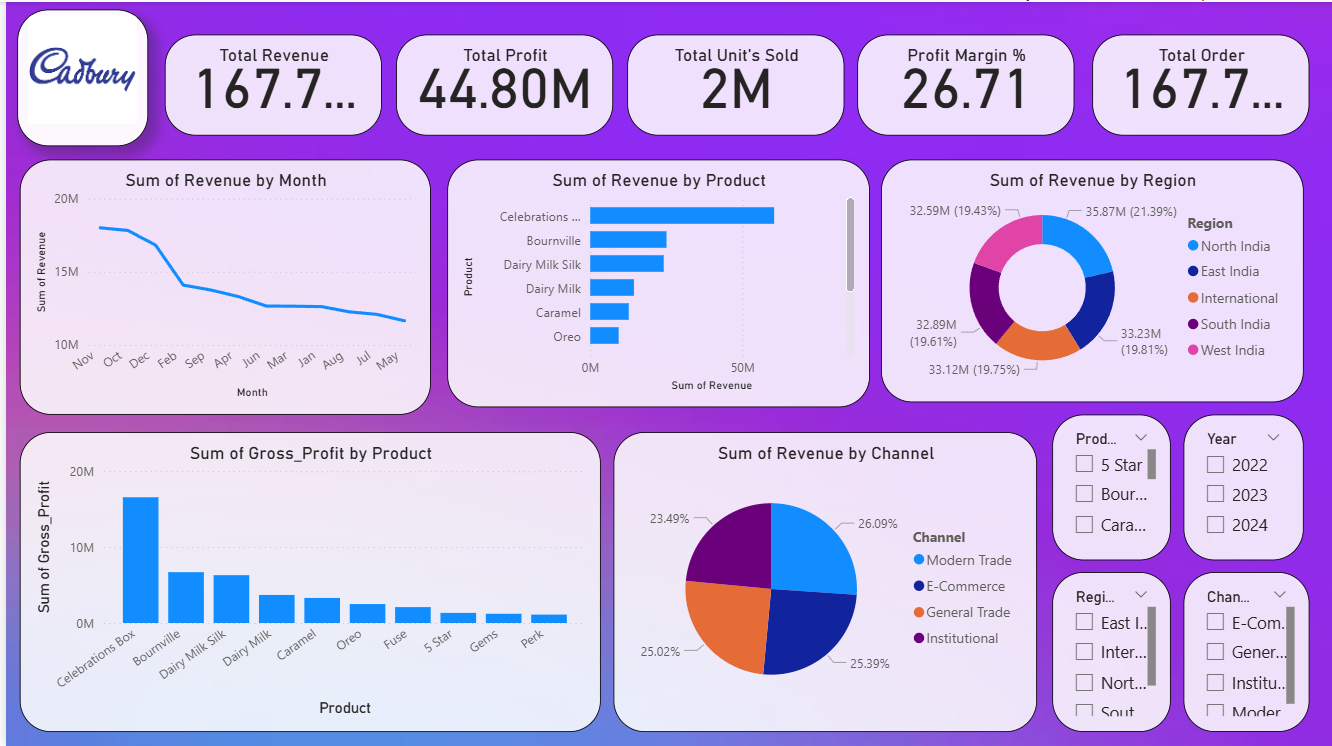

Layout of this report page (visuals, bound fields, positions):
{"tool":"powerbi","page":{"name":"Cadbury Sales Overview Dashboard","canvas":[1280,720],"ordinal":0},"visuals":[{"type":"image","box":[11,6.9,126.2,131.7],"z":0},{"type":"card","title":"Total Revenue","fields":{"Values":["Regional_Summary.Total Revenue"]},"box":[153.7,31.6,209.9,97.4],"z":1000},{"type":"card","title":"Total Profit","fields":{"Values":["KPI_Targets.Total Profit"]},"box":[376,31.6,209.9,97.4],"z":2000},{"type":"card","title":"Total Unit''s Sold","fields":{"Values":["KPI_Targets.Total Units Sold"]},"box":[599.7,31.6,209.9,97.4],"z":3000},{"type":"card","title":"Profit Margin %","fields":{"Values":["KPI_Targets.Profit Margin %"]},"box":[822,31.6,209.9,97.4],"z":4000},{"type":"card","title":"Total Order","fields":{"Values":["Regional_Summary.Total Revenue"]},"box":[1048.4,31.6,209.9,97.4],"z":5000},{"type":"lineChart","fields":{"Category":["Sales_Data.Month"],"Y":["Sum(Sales_Data.Revenue)"]},"box":[13.3,152,396.9,246.1],"z":6000},{"type":"clusteredBarChart","fields":{"Category":["Sales_Data.Product"],"Y":["Sum(Sales_Data.Revenue)"]},"box":[425.9,152,407.8,238.9],"z":7000},{"type":"donutChart","fields":{"Category":["Sales_Data.Region"],"Y":["Sum(Sales_Data.Revenue)"]},"box":[844.5,152,407.8,234],"z":8000},{"type":"clusteredColumnChart","fields":{"Category":["Sales_Data.Product"],"Y":["Sum(Sales_Data.Gross_Profit)"]},"box":[13.3,415,561,289.5],"z":9000},{"type":"pieChart","fields":{"Category":["Sales_Data.Channel"],"Y":["Sum(Sales_Data.Revenue)"]},"box":[586.3,415,409,289.5],"z":10000},{"type":"slicer","fields":{"Values":["Regional_Summary.Year"]},"box":[1136.5,398.1,115.8,141.2],"z":12000},{"type":"slicer","fields":{"Values":["Regional_Summary.Region"]},"box":[1009.8,550.1,114.6,154.4],"z":13000},{"type":"slicer","fields":{"Values":["Sales_Data.Product"]},"box":[1009.8,398.1,114.6,141.2],"z":14000},{"type":"slicer","fields":{"Values":["Sales_Data.Channel"]},"box":[1136.5,550.1,121.9,154.4],"z":15000}]}

Visuals, with their boxes in screenshot pixels (x1, y1, x2, y2), scaled from the page's 1280x720 canvas onto the 1332x746 screenshot:
image: <bbox>11, 7, 143, 144</bbox>
"Total Revenue" card: <bbox>160, 33, 378, 134</bbox>
"Total Profit" card: <bbox>391, 33, 610, 134</bbox>
"Total Unit''s Sold" card: <bbox>624, 33, 842, 134</bbox>
"Profit Margin %" card: <bbox>855, 33, 1074, 134</bbox>
"Total Order" card: <bbox>1091, 33, 1309, 134</bbox>
lineChart - Sales_Data.Month x Sum(Sales_Data.Revenue): <bbox>14, 157, 427, 412</bbox>
clusteredBarChart - Sales_Data.Product x Sum(Sales_Data.Revenue): <bbox>443, 157, 868, 405</bbox>
donutChart - Sales_Data.Region x Sum(Sales_Data.Revenue): <bbox>879, 157, 1303, 400</bbox>
clusteredColumnChart - Sales_Data.Product x Sum(Sales_Data.Gross_Profit): <bbox>14, 430, 598, 730</bbox>
pieChart - Sales_Data.Channel x Sum(Sales_Data.Revenue): <bbox>610, 430, 1036, 730</bbox>
slicer - Regional_Summary.Year: <bbox>1183, 412, 1303, 559</bbox>
slicer - Regional_Summary.Region: <bbox>1051, 570, 1170, 730</bbox>
slicer - Sales_Data.Product: <bbox>1051, 412, 1170, 559</bbox>
slicer - Sales_Data.Channel: <bbox>1183, 570, 1310, 730</bbox>
